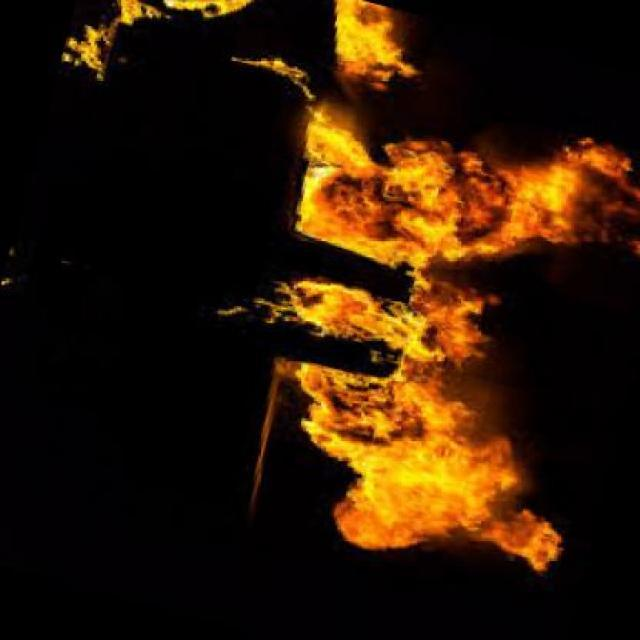Fire: (289, 84, 636, 557), (53, 0, 420, 85)
